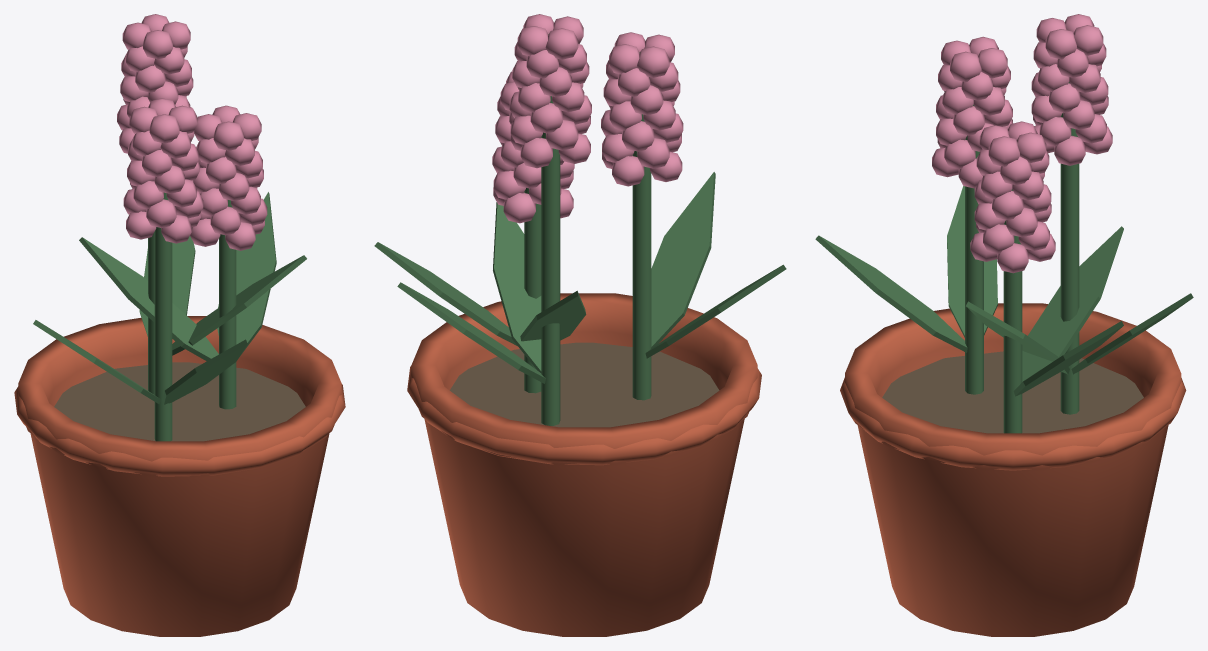
File: almanac-gardens-hyacinth-planter-fca485c9__22039.glb
The picture shows the model from 3 angles, left to right: view 1: azimuth 30°, elevation 25°; view 2: azimuth 150°, elevation 25°; view 3: azimuth 270°, elevation 25°; orthographic projection. The views are drawn at different scales.
Visible parts, largest first — view 1: hyacinth-planter-clay, hyacinth-planter-pink, hyacinth-planter-leaf, hyacinth-planter-soil; view 2: hyacinth-planter-clay, hyacinth-planter-leaf, hyacinth-planter-pink, hyacinth-planter-soil; view 3: hyacinth-planter-clay, hyacinth-planter-pink, hyacinth-planter-leaf, hyacinth-planter-soil.
Part boxes in pixels (x1,y1,x2,y2): hyacinth-planter-clay: (14, 316, 345, 636); hyacinth-planter-pink: (117, 14, 267, 250); hyacinth-planter-leaf: (33, 192, 306, 441); hyacinth-planter-soil: (54, 362, 305, 441); hyacinth-planter-clay: (407, 293, 761, 636); hyacinth-planter-leaf: (374, 34, 786, 425); hyacinth-planter-pink: (492, 14, 683, 223); hyacinth-planter-soil: (450, 342, 719, 427); hyacinth-planter-clay: (840, 303, 1186, 636); hyacinth-planter-pink: (932, 14, 1112, 273); hyacinth-planter-leaf: (815, 82, 1193, 433); hyacinth-planter-soil: (882, 351, 1143, 433).
Bounding box in the file's own units: 0.4457 × 0.7428 × 0.4502.
